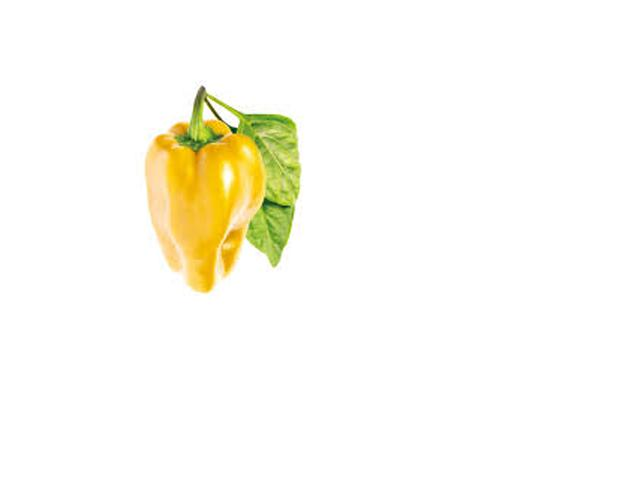bell_pepper: (133, 81, 268, 297)
